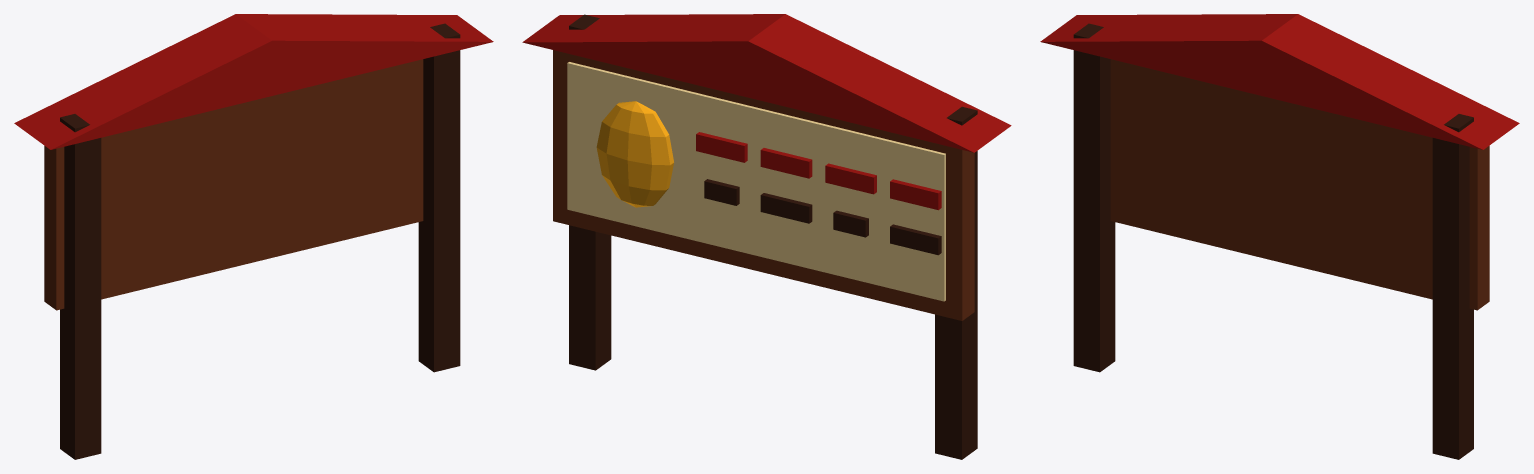
File: Signboard.obj
3 renders of one model, left to right at view 1: azimuth 30°, elevation 25°; view 2: azimuth 150°, elevation 25°; view 3: azimuth 330°, elevation 25°, orthographic. The views are drawn at different scales.
Parts seen in each view (by area): view 1: Signboard; view 2: Signboard; view 3: Signboard.
Boxes of the visible parts, x1=… form: Signboard: x1=14, y1=14, x2=493, y2=459; Signboard: x1=522, y1=14, x2=1011, y2=459; Signboard: x1=1040, y1=14, x2=1519, y2=459.
Bounding box in the file's own units: 2.35 × 1.9 × 0.3556.
